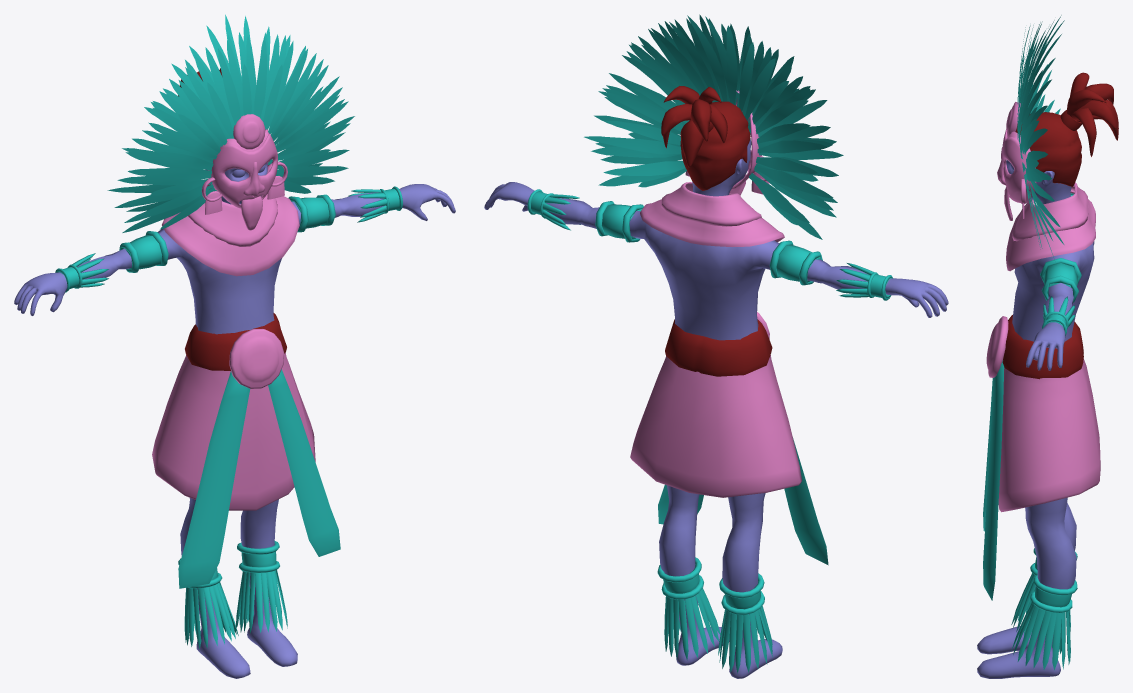
The model's file is ShamanGEO_LP.fbx.
3 views of the same model, side by side, from view 1: azimuth 30°, elevation 25°; view 2: azimuth 150°, elevation 25°; view 3: azimuth 270°, elevation 25° (orthographic). The views are drawn at different scales.
Visible parts, largest first — view 1: Cloth, Extras, Body, Hair; view 2: Cloth, Extras, Body, Hair; view 3: Extras, Cloth, Body, Hair.
Boxes of the visible parts, x1,y1,x2,y2 form: Cloth: [55, 14, 402, 648]; Extras: [152, 114, 315, 510]; Body: [14, 162, 455, 678]; Hair: [178, 68, 286, 370]; Cloth: [527, 14, 892, 673]; Extras: [630, 90, 801, 497]; Body: [484, 138, 948, 678]; Hair: [661, 86, 772, 376]; Extras: [986, 102, 1100, 512]; Cloth: [983, 15, 1081, 670]; Body: [977, 160, 1094, 678]; Hair: [1002, 72, 1118, 379].
Bounding box in the file's own units: 170 × 236 × 47.05.
